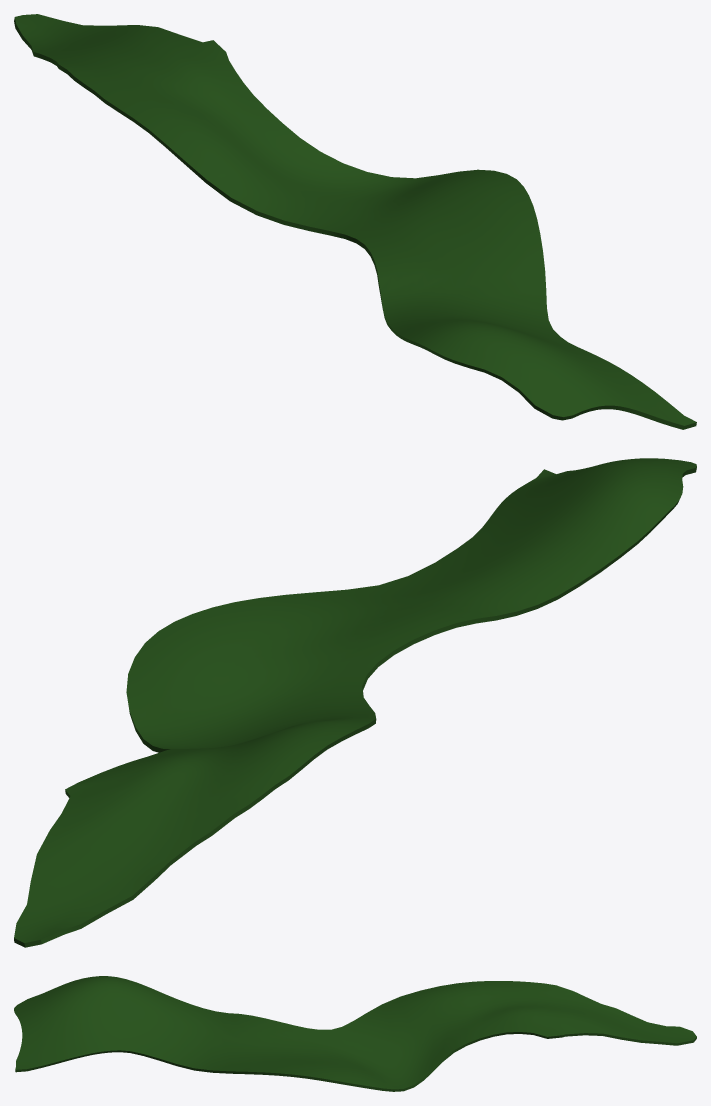
File: Alga.fbx
3 views of the same model, one above another, from view 1: azimuth 30°, elevation 25°; view 2: azimuth 150°, elevation 25°; view 3: azimuth 270°, elevation 25° (orthographic). The views are drawn at different scales.
Visible parts, largest first — view 1: Plane; view 2: Plane; view 3: Plane.
Boxes of the visible parts, bbox=[...] form: Plane: bbox=[14, 14, 696, 429]; Plane: bbox=[14, 458, 696, 947]; Plane: bbox=[14, 976, 696, 1091].
Bounding box in the file's own units: 70.44 × 21.51 × 250.
